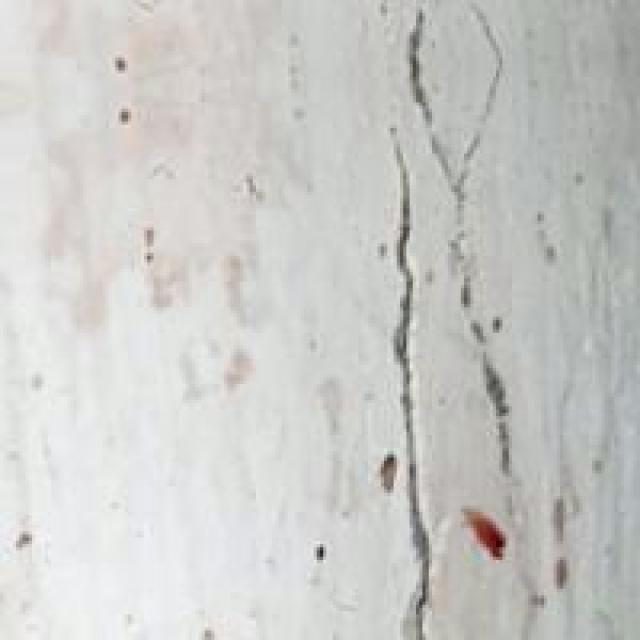SurfaceCrack: (380, 2, 522, 632)
